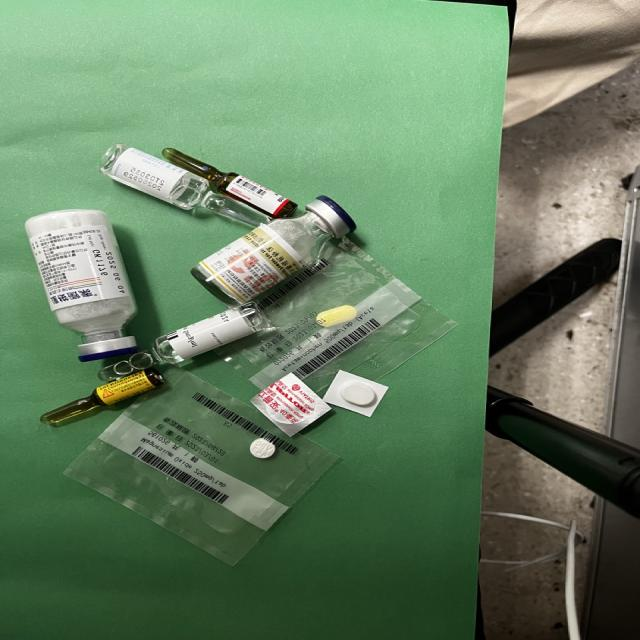Ampoules: (99, 143, 272, 226), (97, 302, 272, 382), (161, 148, 299, 219), (39, 366, 165, 424)
Vials: (190, 196, 356, 307), (24, 210, 139, 364)
